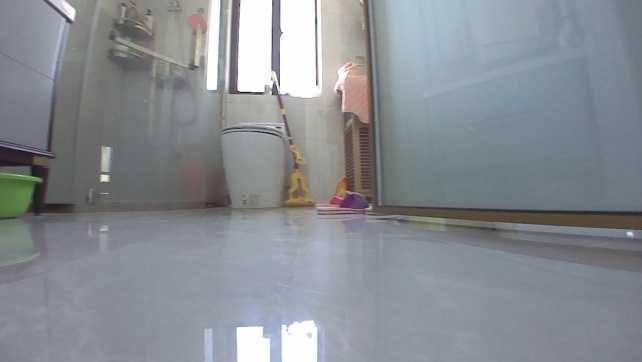slipper: (314, 188, 369, 216)
toilet: (219, 113, 287, 209)
